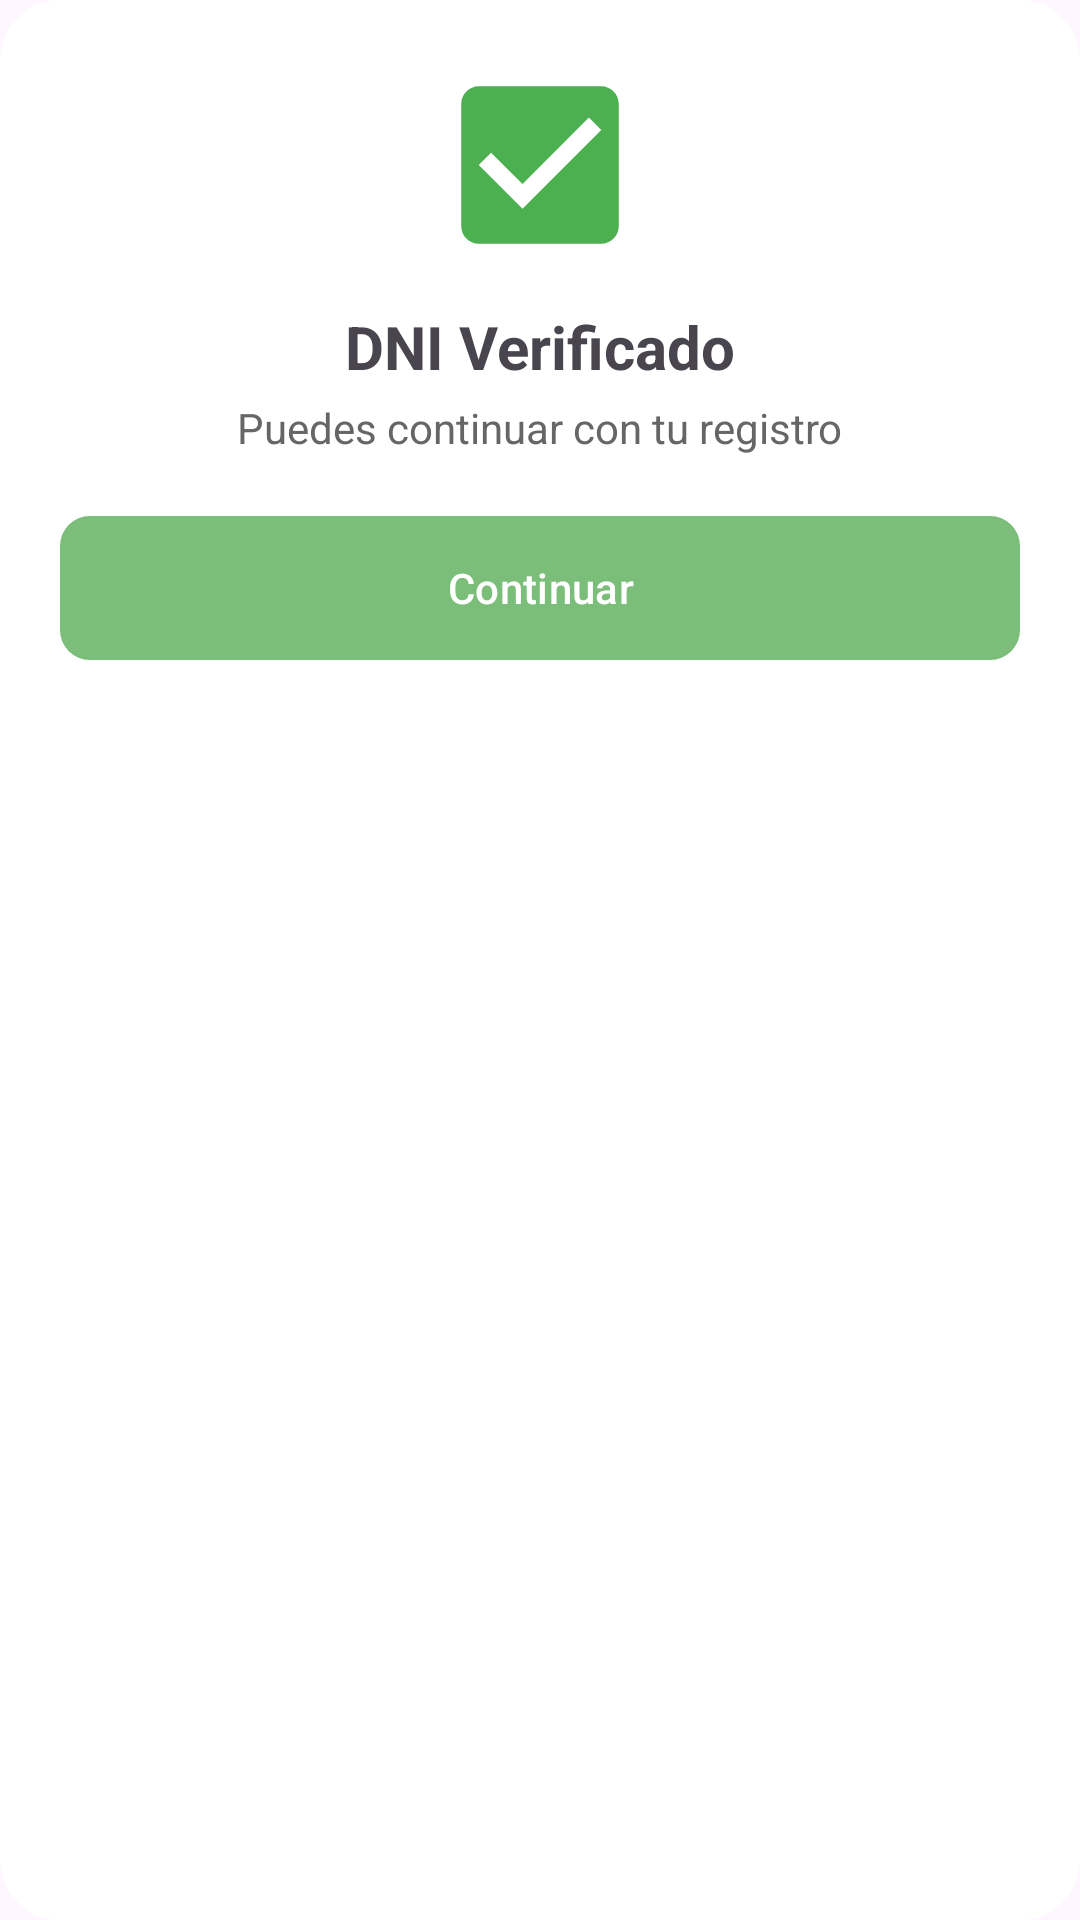

Icon bounding boxes for this 1080px×1920px phone screenshot, format (x1, y1, x2, y2):
check on: (461, 86, 619, 244)
